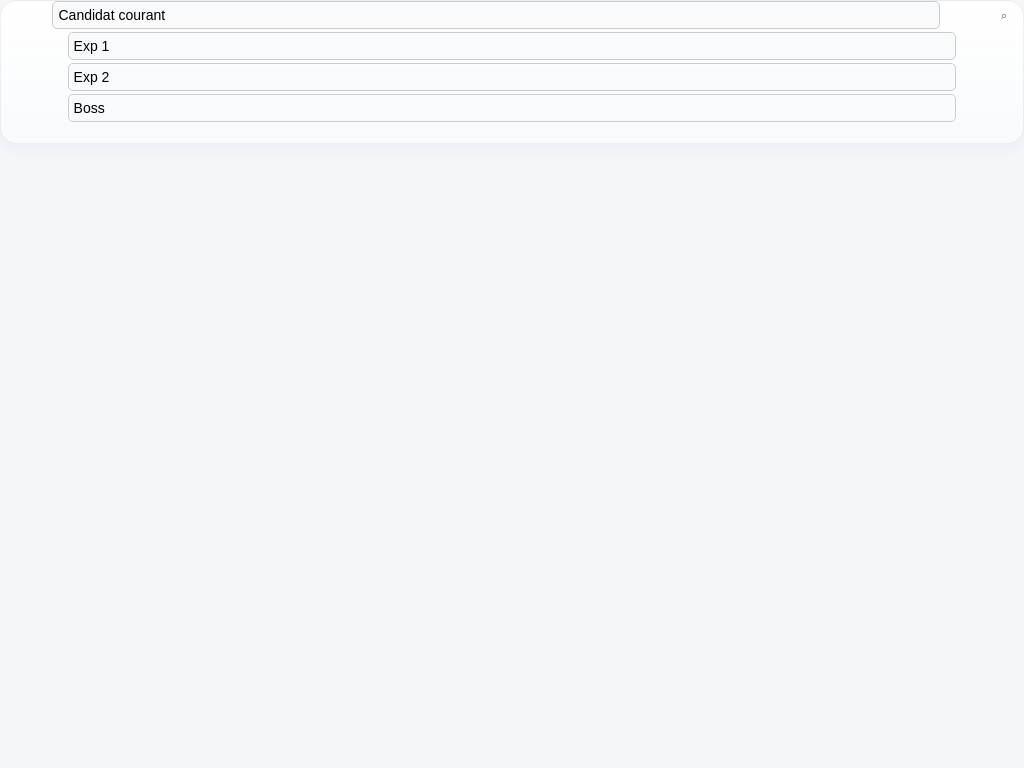
TpiCard editing overlay › opens the selector without crashing and starts loading models
Click the button "⌕" at point(1004, 15), box [992,3,1016,27]
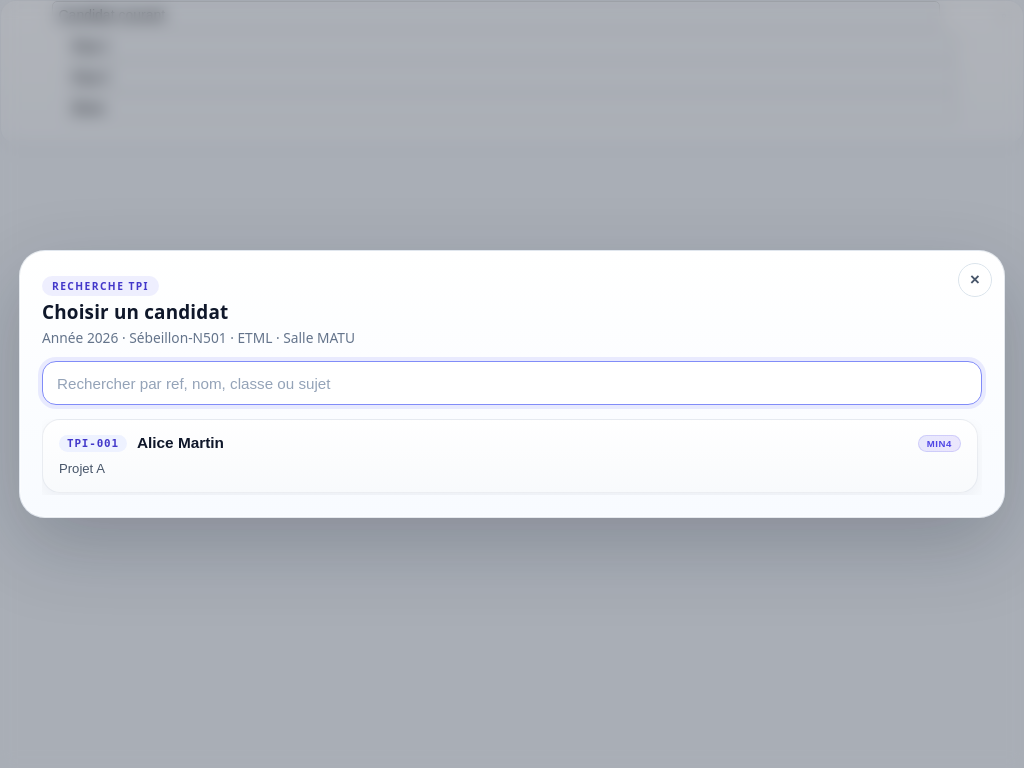
Now the dialog named "Sélectionner un TPI" is shown, box [19,250,1005,518]
Now the text "Année 2026 · Sébeillon-N501 · ETML · Salle MATU" is shown, box [42,328,355,347]
